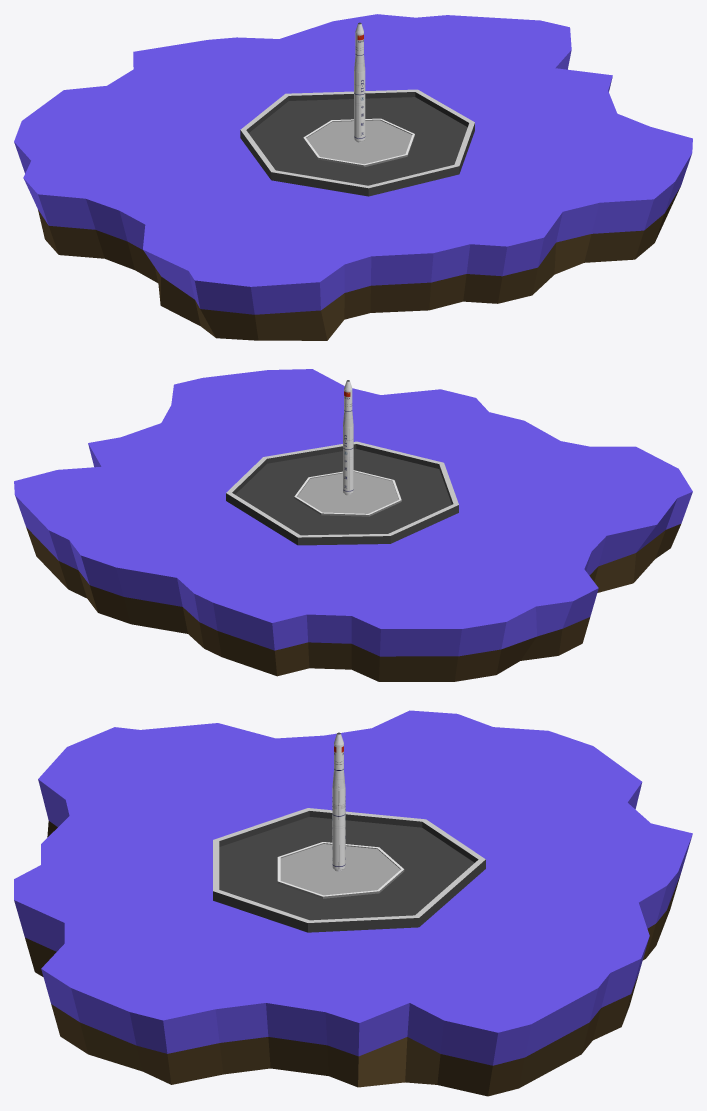
The model's file is longmarch11.gltf.
The picture shows the model from 3 angles, top to bottom: view 1: azimuth 30°, elevation 25°; view 2: azimuth 150°, elevation 25°; view 3: azimuth 270°, elevation 25°; orthographic projection. The views are drawn at different scales.
Visible parts, largest first — view 1: Plane, Cylinder; view 2: Plane, Cylinder; view 3: Plane, Cylinder.
Boxes of the visible parts, left/top/right/bottom form: Plane: left=14, top=14, right=692, bottom=340; Cylinder: left=354, top=22, right=365, bottom=142; Plane: left=14, top=369, right=692, bottom=681; Cylinder: left=343, top=380, right=353, bottom=495; Plane: left=14, top=710, right=692, bottom=1096; Cylinder: left=332, top=732, right=345, bottom=871.
Size of the model in its own units: 8.06 by 2.52 by 7.18.
8 materials, 1 textured.
